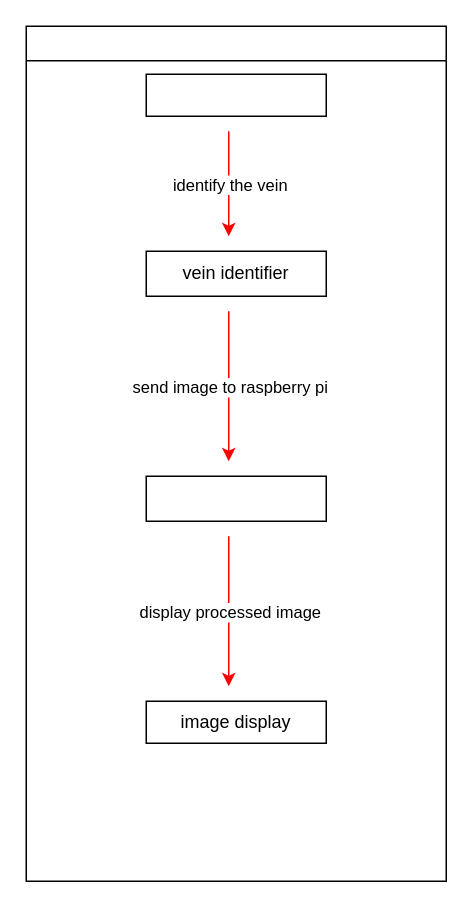
The diagram is 473 pixels wide and 908 high, and some of its shapes have lost their labels. Here are the shapes that lost their labels. From the top down, the centre of each, then its label:
At [235,94]: "Patient".
At [235,498]: "image processor".
